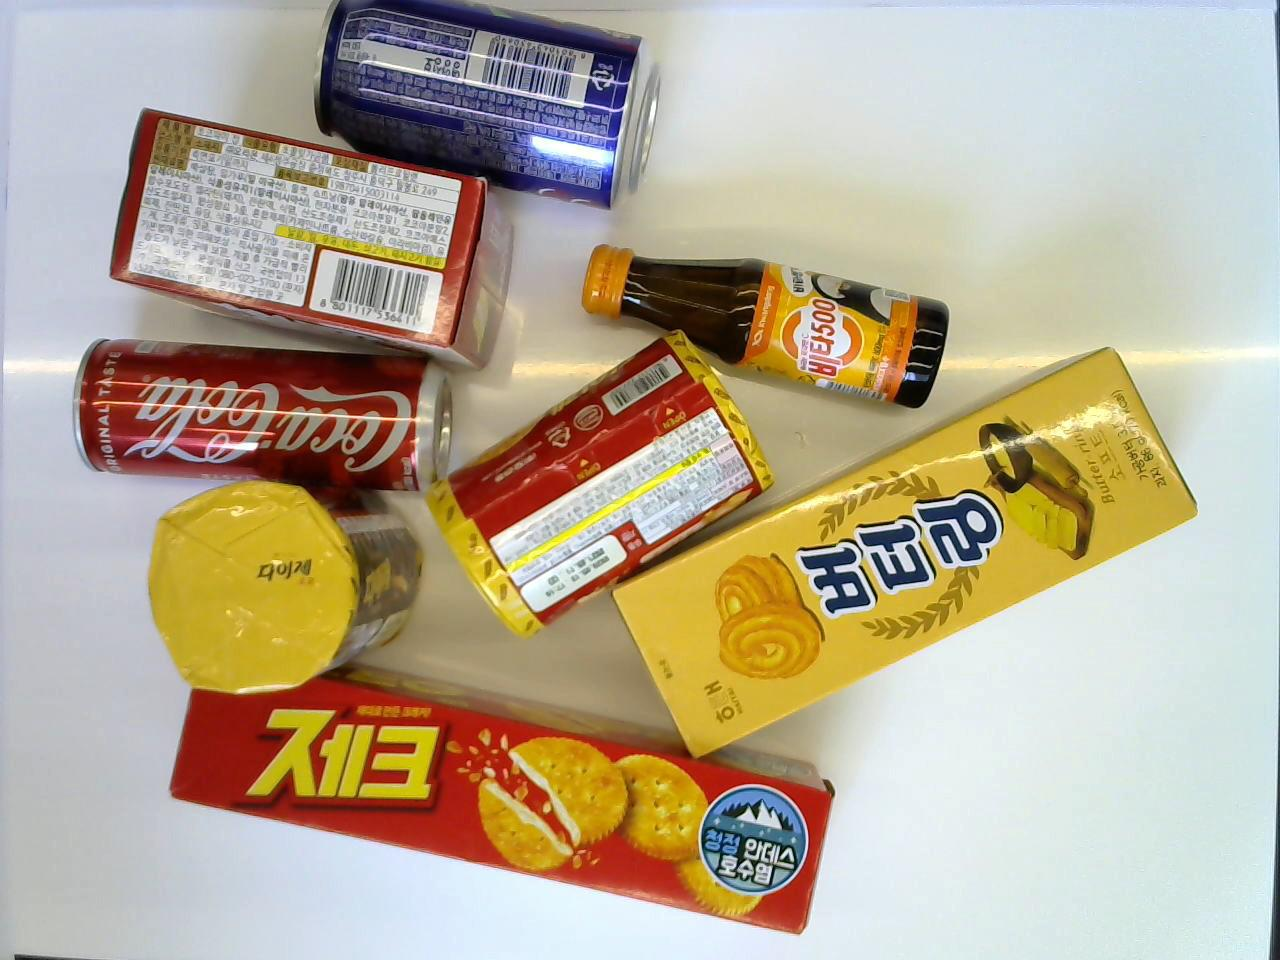buttering: (611, 344, 1198, 762)
chocopie: (106, 105, 512, 374)
coke: (70, 338, 452, 491)
diget_choco: (148, 471, 425, 699)
diget_ori: (423, 327, 776, 640)
vita500: (578, 240, 951, 410)
welchs: (311, 0, 664, 211)
zec: (167, 667, 836, 937)
